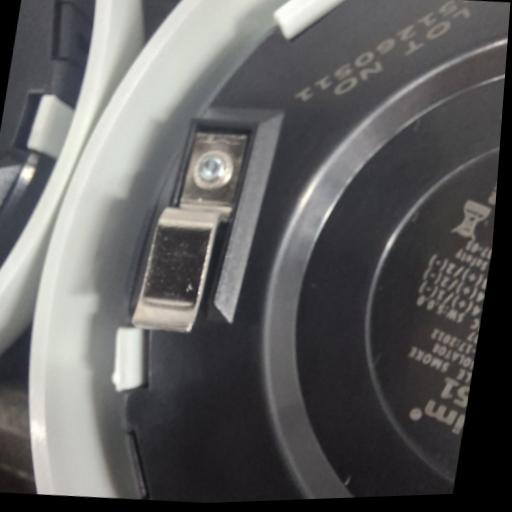yaysiz: (121, 122, 253, 344)
